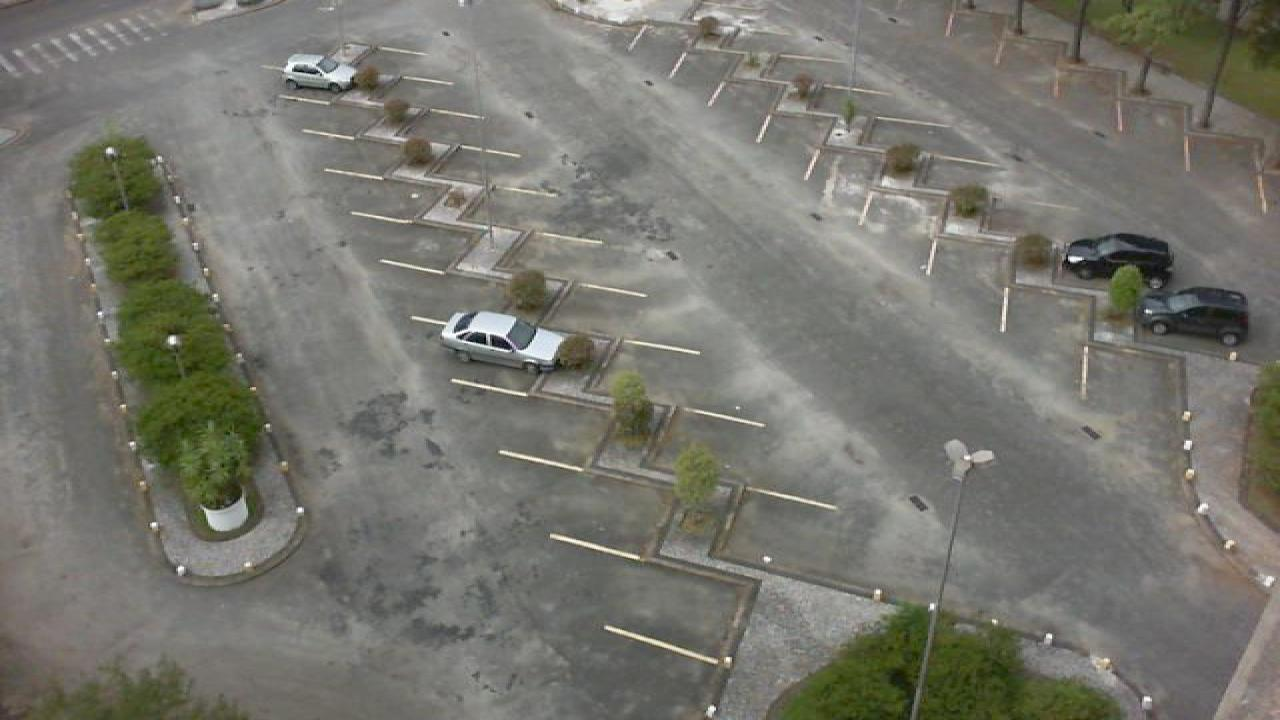Car: (438, 309, 570, 376), (1134, 284, 1252, 346), (1062, 232, 1174, 284), (282, 54, 358, 92)
